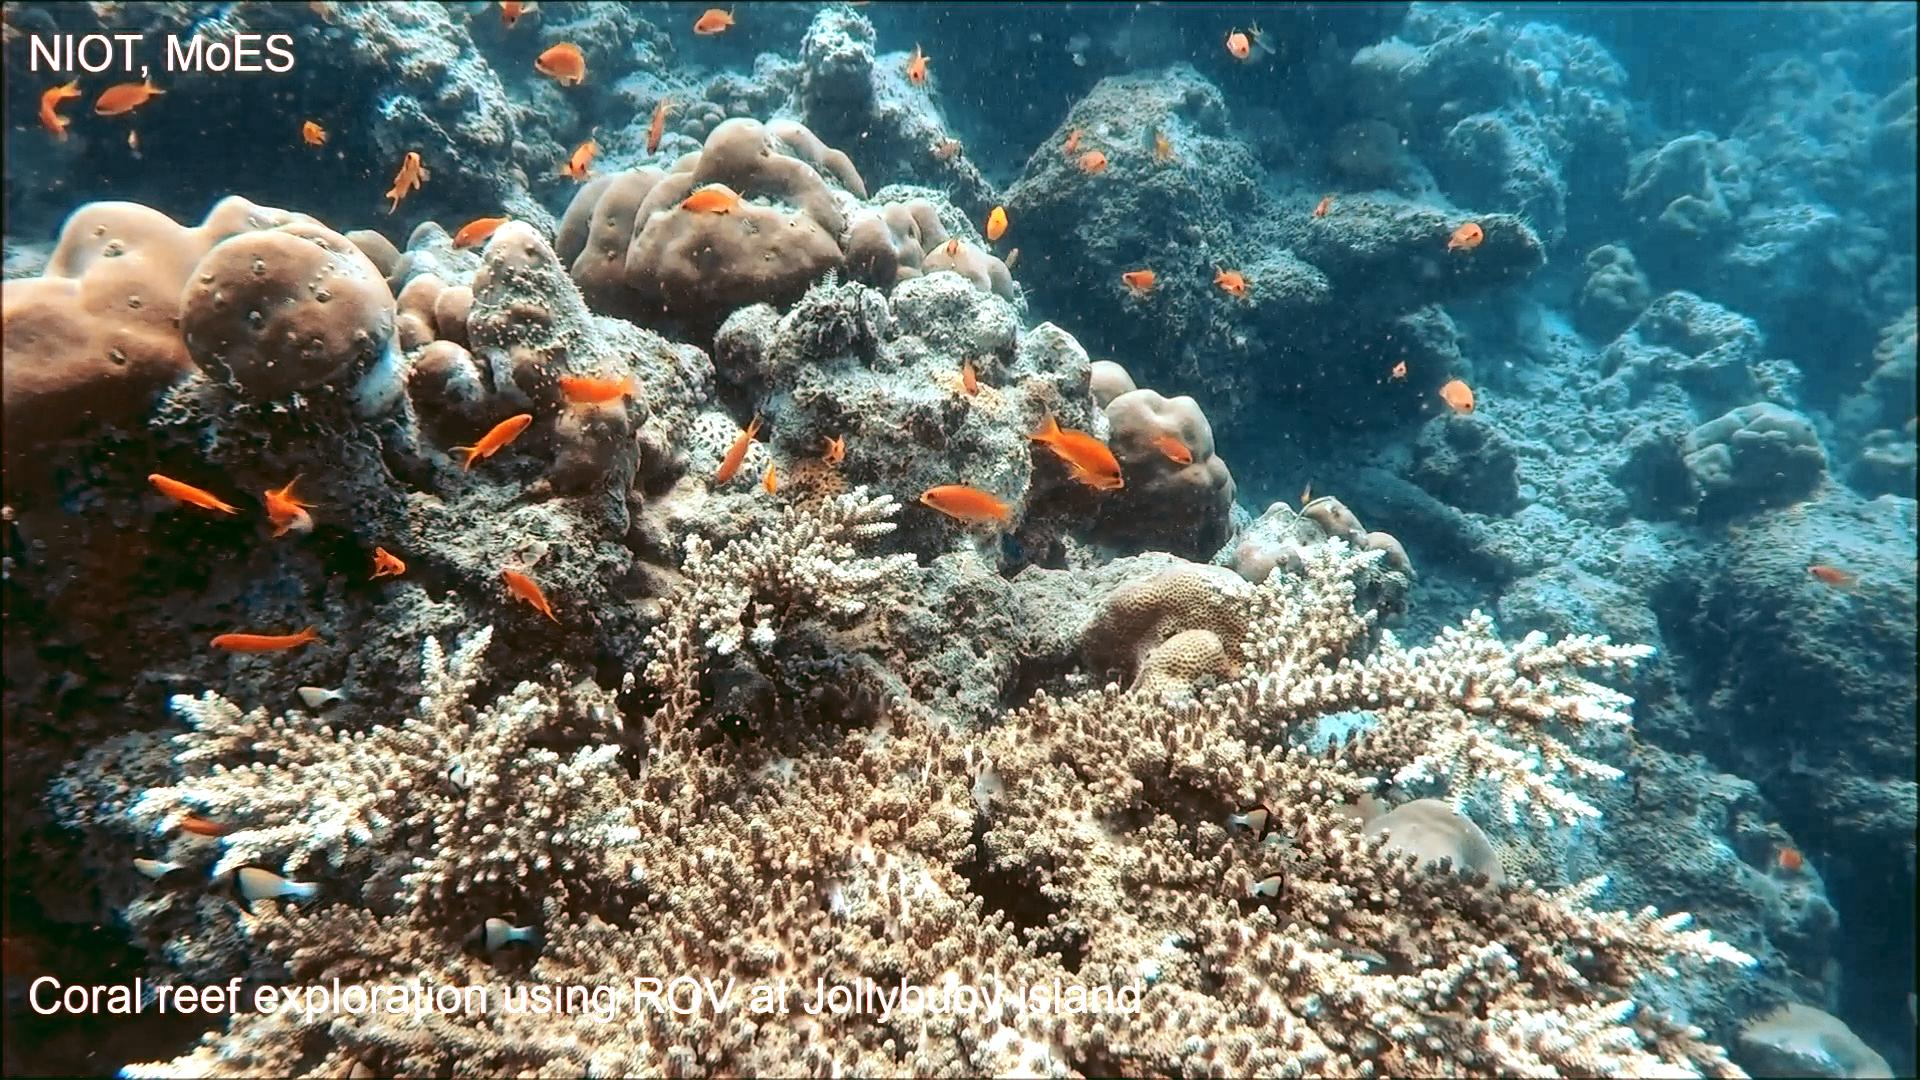Porites-Porites pukoensis: (0, 189, 405, 460), (550, 112, 931, 318)
